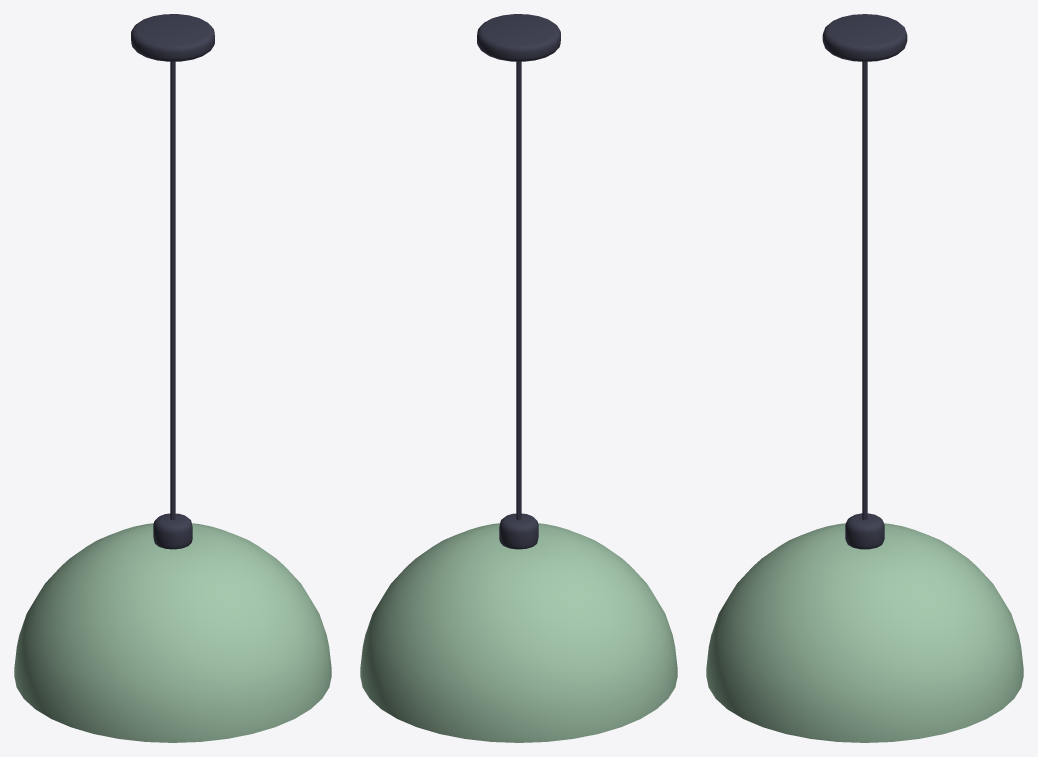
The model's file is pendant_lamp.glb.
3 renders of one model, left to right at view 1: azimuth 30°, elevation 25°; view 2: azimuth 150°, elevation 25°; view 3: azimuth 270°, elevation 25°, orthographic.
Parts seen in each view (by area): view 1: accent_shade, charcoal; view 2: accent_shade, charcoal; view 3: accent_shade, charcoal.
Part boxes in pixels (bbox=[...]): accent_shade: bbox=[14, 523, 331, 742]; charcoal: bbox=[131, 14, 214, 549]; accent_shade: bbox=[360, 523, 677, 742]; charcoal: bbox=[477, 14, 560, 549]; accent_shade: bbox=[706, 523, 1023, 742]; charcoal: bbox=[822, 14, 907, 549].
Size of the model in its own units: 0.45 by 1.01 by 0.45.
